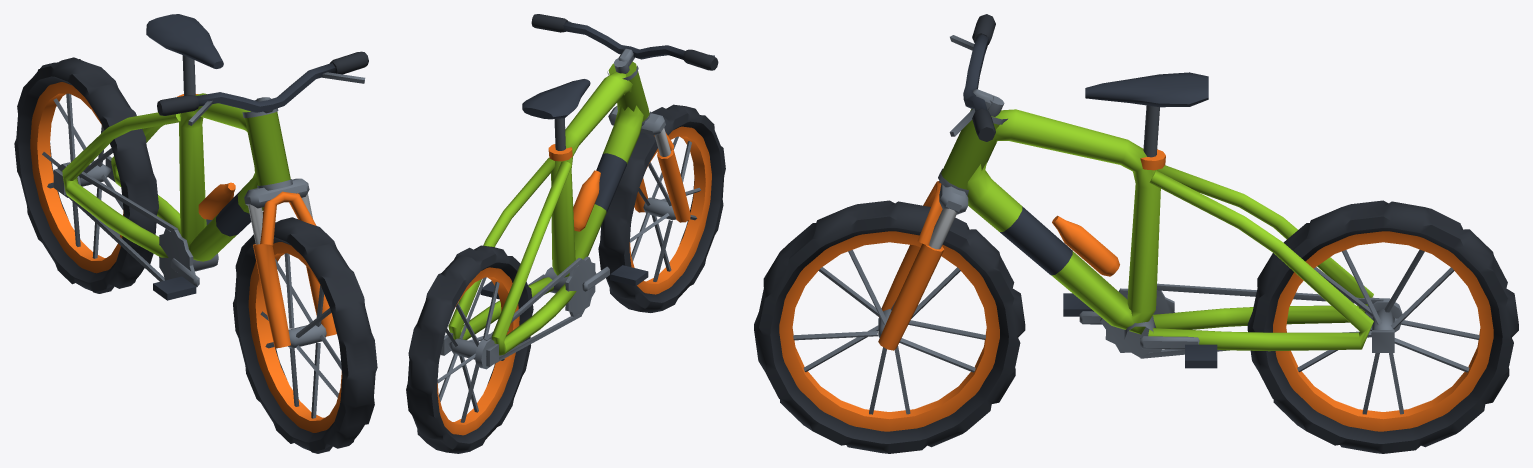
File: bicycle.glb
The picture shows the model from 3 angles, left to right: view 1: azimuth 30°, elevation 25°; view 2: azimuth 150°, elevation 25°; view 3: azimuth 270°, elevation 25°; orthographic projection. The views are drawn at different scales.
Visible parts, largest first — view 1: Front wheel Trail rubber, Trail Bicycle Race lime, Rear wheel Trail rubber, Trail Bicycle Graphite, Trail Bicycle Gunmetal, Trail Bicycle Safety orange, Rear wheel Safety orange, Front wheel Safety orange, Front wheel Gunmetal, Rear wheel Gunmetal, Trail Bicycle Trail rubber, Trail Bicycle Chrome alloy; view 2: Trail Bicycle Race lime, Rear wheel Trail rubber, Front wheel Trail rubber, Trail Bicycle Graphite, Trail Bicycle Gunmetal, Front wheel Safety orange, Trail Bicycle Safety orange, Rear wheel Safety orange, Rear wheel Gunmetal, Front wheel Gunmetal, Trail Bicycle Trail rubber; view 3: Trail Bicycle Race lime, Front wheel Trail rubber, Rear wheel Trail rubber, Front wheel Safety orange, Rear wheel Safety orange, Trail Bicycle Graphite, Trail Bicycle Gunmetal, Trail Bicycle Safety orange, Rear wheel Gunmetal, Front wheel Gunmetal, Trail Bicycle Trail rubber.
Part boxes in pixels (x1=…): Front wheel Trail rubber: x1=233, y1=217, x2=377, y2=453; Trail Bicycle Race lime: x1=62, y1=93, x2=290, y2=261; Rear wheel Trail rubber: x1=14, y1=57, x2=158, y2=293; Trail Bicycle Graphite: x1=146, y1=14, x2=335, y2=300; Trail Bicycle Gunmetal: x1=53, y1=55, x2=365, y2=287; Trail Bicycle Safety orange: x1=177, y1=94, x2=336, y2=348; Rear wheel Safety orange: x1=30, y1=82, x2=123, y2=273; Front wheel Safety orange: x1=248, y1=242, x2=342, y2=432; Front wheel Gunmetal: x1=260, y1=253, x2=341, y2=418; Rear wheel Gunmetal: x1=42, y1=93, x2=123, y2=258; Trail Bicycle Trail rubber: x1=157, y1=51, x2=368, y2=115; Trail Bicycle Chrome alloy: x1=248, y1=193, x2=312, y2=244; Trail Bicycle Race lime: x1=448, y1=61, x2=649, y2=355; Rear wheel Trail rubber: x1=406, y1=245, x2=533, y2=453; Front wheel Trail rubber: x1=598, y1=104, x2=725, y2=312; Trail Bicycle Graphite: x1=480, y1=21, x2=685, y2=299; Trail Bicycle Gunmetal: x1=440, y1=21, x2=714, y2=366; Front wheel Safety orange: x1=629, y1=126, x2=711, y2=294; Trail Bicycle Safety orange: x1=548, y1=132, x2=690, y2=231; Rear wheel Safety orange: x1=437, y1=267, x2=519, y2=435; Rear wheel Gunmetal: x1=437, y1=277, x2=508, y2=422; Front wheel Gunmetal: x1=630, y1=136, x2=700, y2=281; Trail Bicycle Trail rubber: x1=531, y1=14, x2=718, y2=70; Trail Bicycle Race lime: x1=941, y1=109, x2=1373, y2=351; Front wheel Trail rubber: x1=754, y1=200, x2=1025, y2=453; Rear wheel Trail rubber: x1=1247, y1=200, x2=1518, y2=453; Front wheel Safety orange: x1=779, y1=231, x2=999, y2=431; Rear wheel Safety orange: x1=1273, y1=231, x2=1493, y2=431; Trail Bicycle Graphite: x1=963, y1=34, x2=1217, y2=368; Trail Bicycle Gunmetal: x1=938, y1=35, x2=1394, y2=358; Trail Bicycle Safety orange: x1=878, y1=149, x2=1165, y2=350; Rear wheel Gunmetal: x1=1297, y1=249, x2=1479, y2=414; Front wheel Gunmetal: x1=793, y1=250, x2=985, y2=414; Trail Bicycle Trail rubber: x1=972, y1=14, x2=995, y2=141.
Bounding box in the file's own units: 0.7096 × 1.11 × 2.01.
